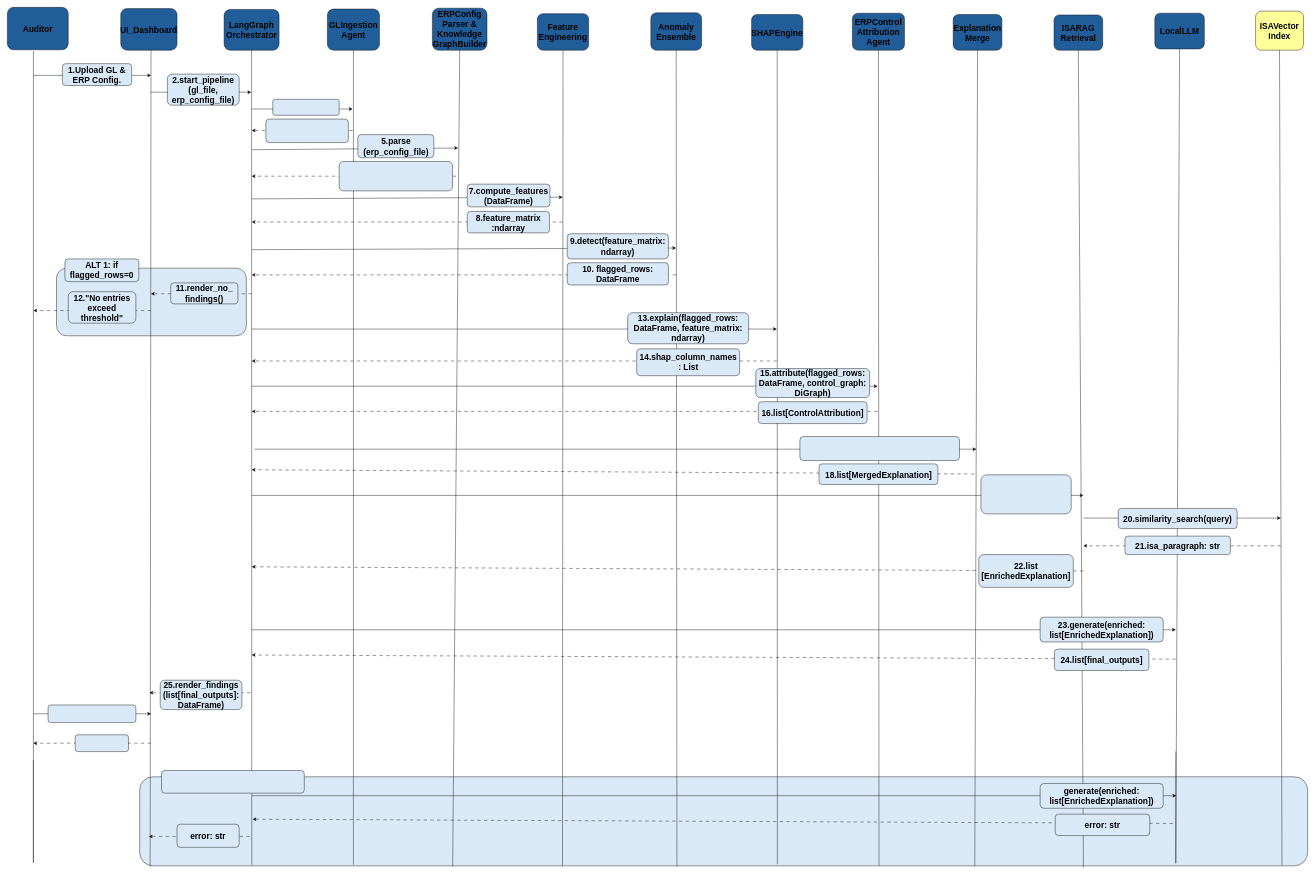
Some shapes in this 1315 by 875 pixel diagram are drawn without their labels. The shapes that lost their labels are listed below. From the top down, each one's centre as x and y in pixels, then its label:
At (x=305, y=107): "3.ingest(gl_file)".
At (x=306, y=131): "4. tuple(DataFrame, list[IngestionIssue])".
At (x=396, y=176): "6.tuple(list [ControlRecord], DiGraph)".
At (x=879, y=448): "17.merge( shap_column_names: List , control_attrs: list[ControlAttribution])".
At (x=1025, y=494): "19.retrieve (merged:list [MergedExplanation])".
At (x=92, y=714): "26.export(format: str)".
At (x=102, y=743): "27. file".
At (x=232, y=781): "ALT 2: if LLM is Unavailabe".
